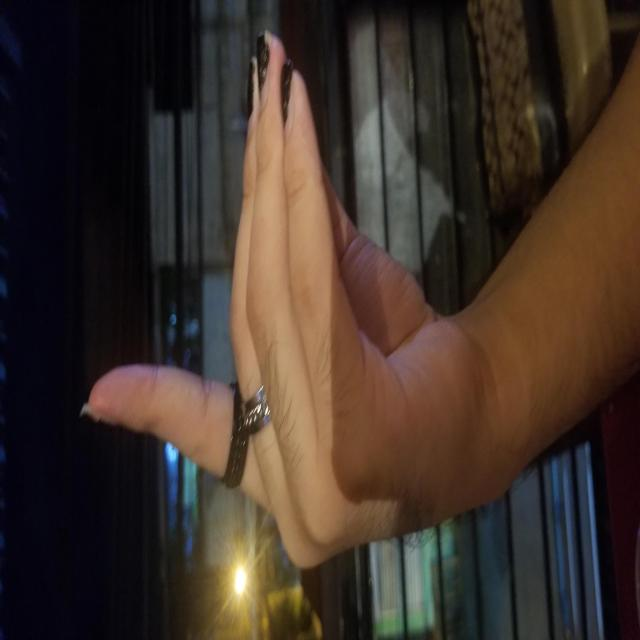D: (56, 77, 627, 511)
